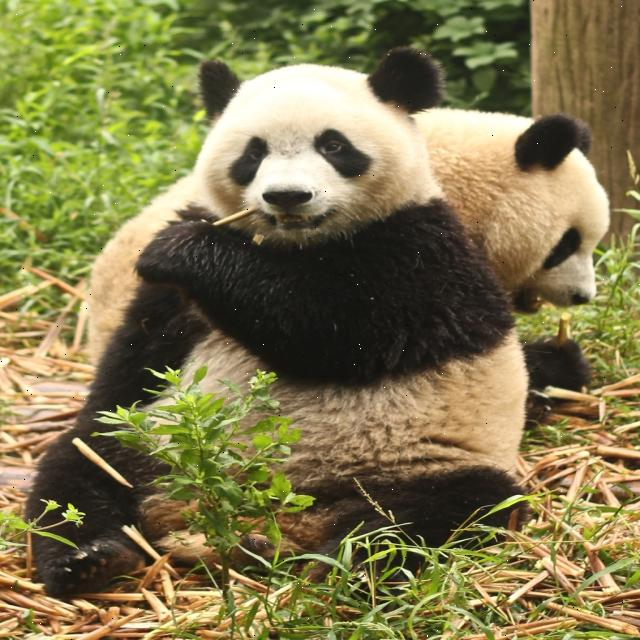panda: (21, 45, 536, 607), (62, 102, 614, 416)
